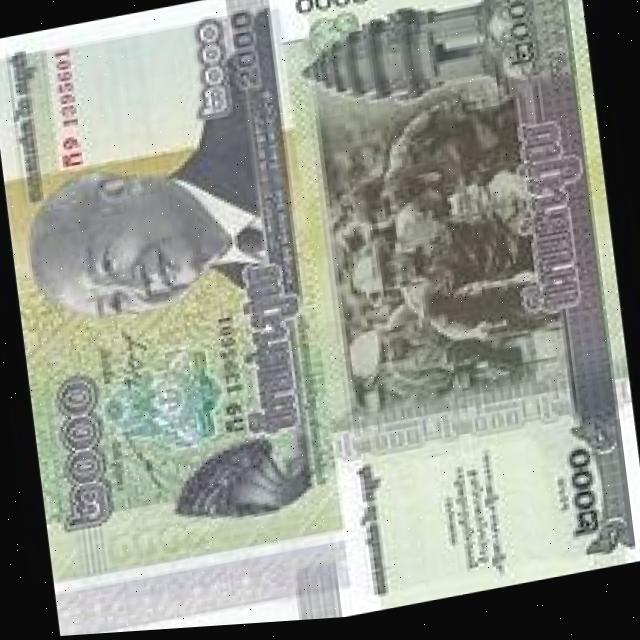banknote: (0, 0, 359, 640), (274, 0, 640, 624), (219, 1, 272, 104), (286, 0, 378, 27)
